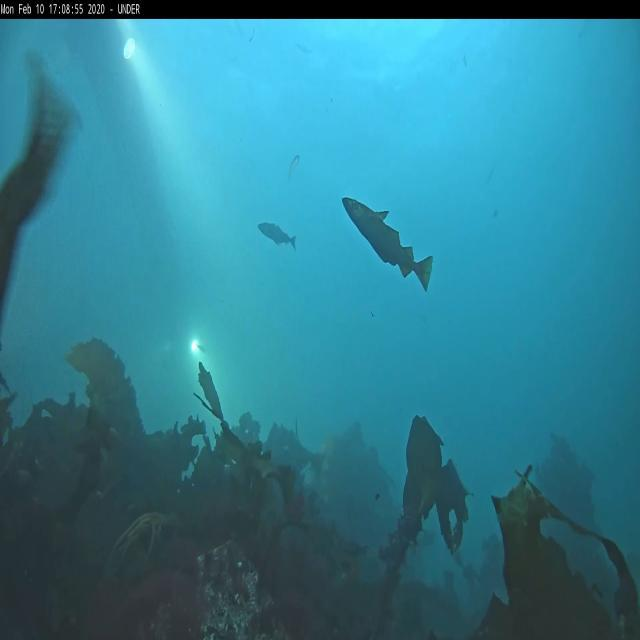fish: (1, 52, 82, 340), (342, 196, 433, 292), (257, 220, 296, 250), (288, 153, 300, 179)
